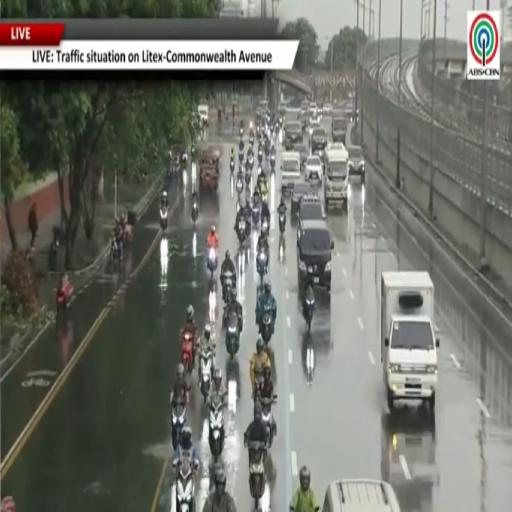car: (297, 219, 333, 292), (322, 479, 400, 511), (298, 195, 326, 236), (291, 182, 311, 215), (348, 146, 365, 183), (305, 155, 322, 185), (285, 121, 302, 150), (310, 126, 327, 152), (293, 143, 309, 169), (332, 117, 347, 142), (198, 105, 208, 125), (309, 118, 320, 136), (308, 102, 318, 116), (322, 104, 332, 116)
motorcycle: (248, 442, 266, 509), (176, 451, 194, 511), (209, 395, 224, 462), (259, 395, 276, 446), (172, 404, 186, 450), (200, 349, 212, 399), (226, 311, 239, 357), (56, 282, 73, 314), (182, 331, 194, 373), (260, 309, 272, 345), (48, 235, 59, 271), (303, 294, 314, 330), (222, 270, 234, 302), (110, 236, 123, 261), (257, 250, 267, 282), (254, 366, 263, 401), (207, 248, 217, 278), (237, 220, 247, 243), (252, 205, 260, 229), (160, 206, 167, 230), (265, 131, 271, 157), (192, 201, 198, 226), (236, 175, 243, 194), (262, 217, 269, 235), (279, 214, 285, 234), (245, 169, 251, 186), (270, 154, 275, 172), (248, 155, 253, 170), (230, 159, 235, 173), (258, 150, 263, 164), (249, 133, 254, 146), (239, 150, 244, 163), (240, 127, 243, 138)
truck: (381, 271, 439, 412), (381, 408, 440, 510), (324, 143, 348, 209), (199, 147, 220, 191)
